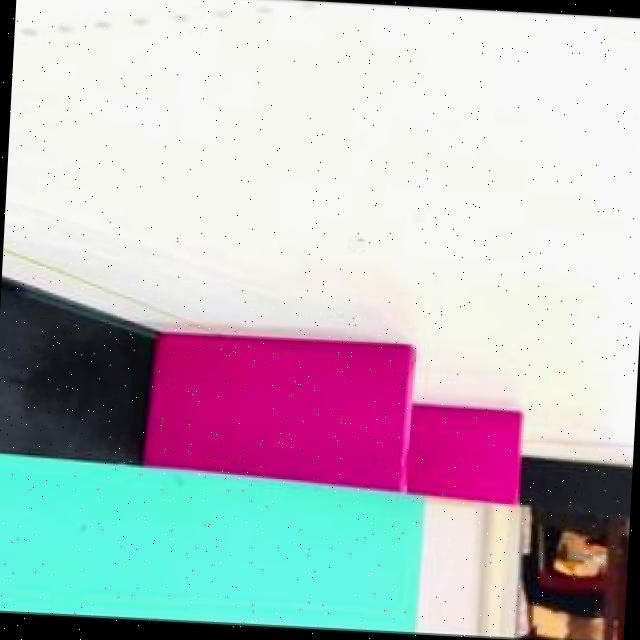xparking: (152, 334, 410, 476), (408, 404, 519, 499)
